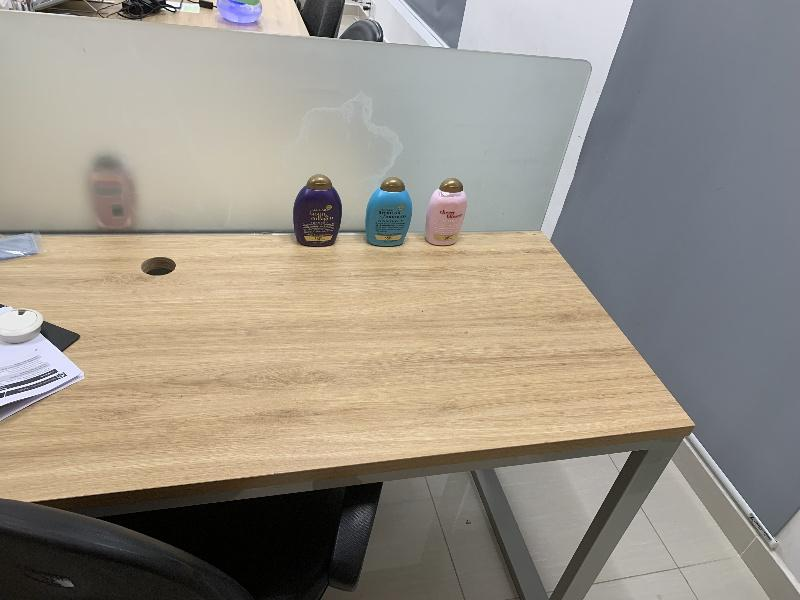ArganOilOfMorocco_Conditioner: (365, 177, 412, 246)
BiotinCollagen_Shampoo: (293, 174, 342, 247)
CherryBlossom_Conditioner: (425, 178, 467, 246)
